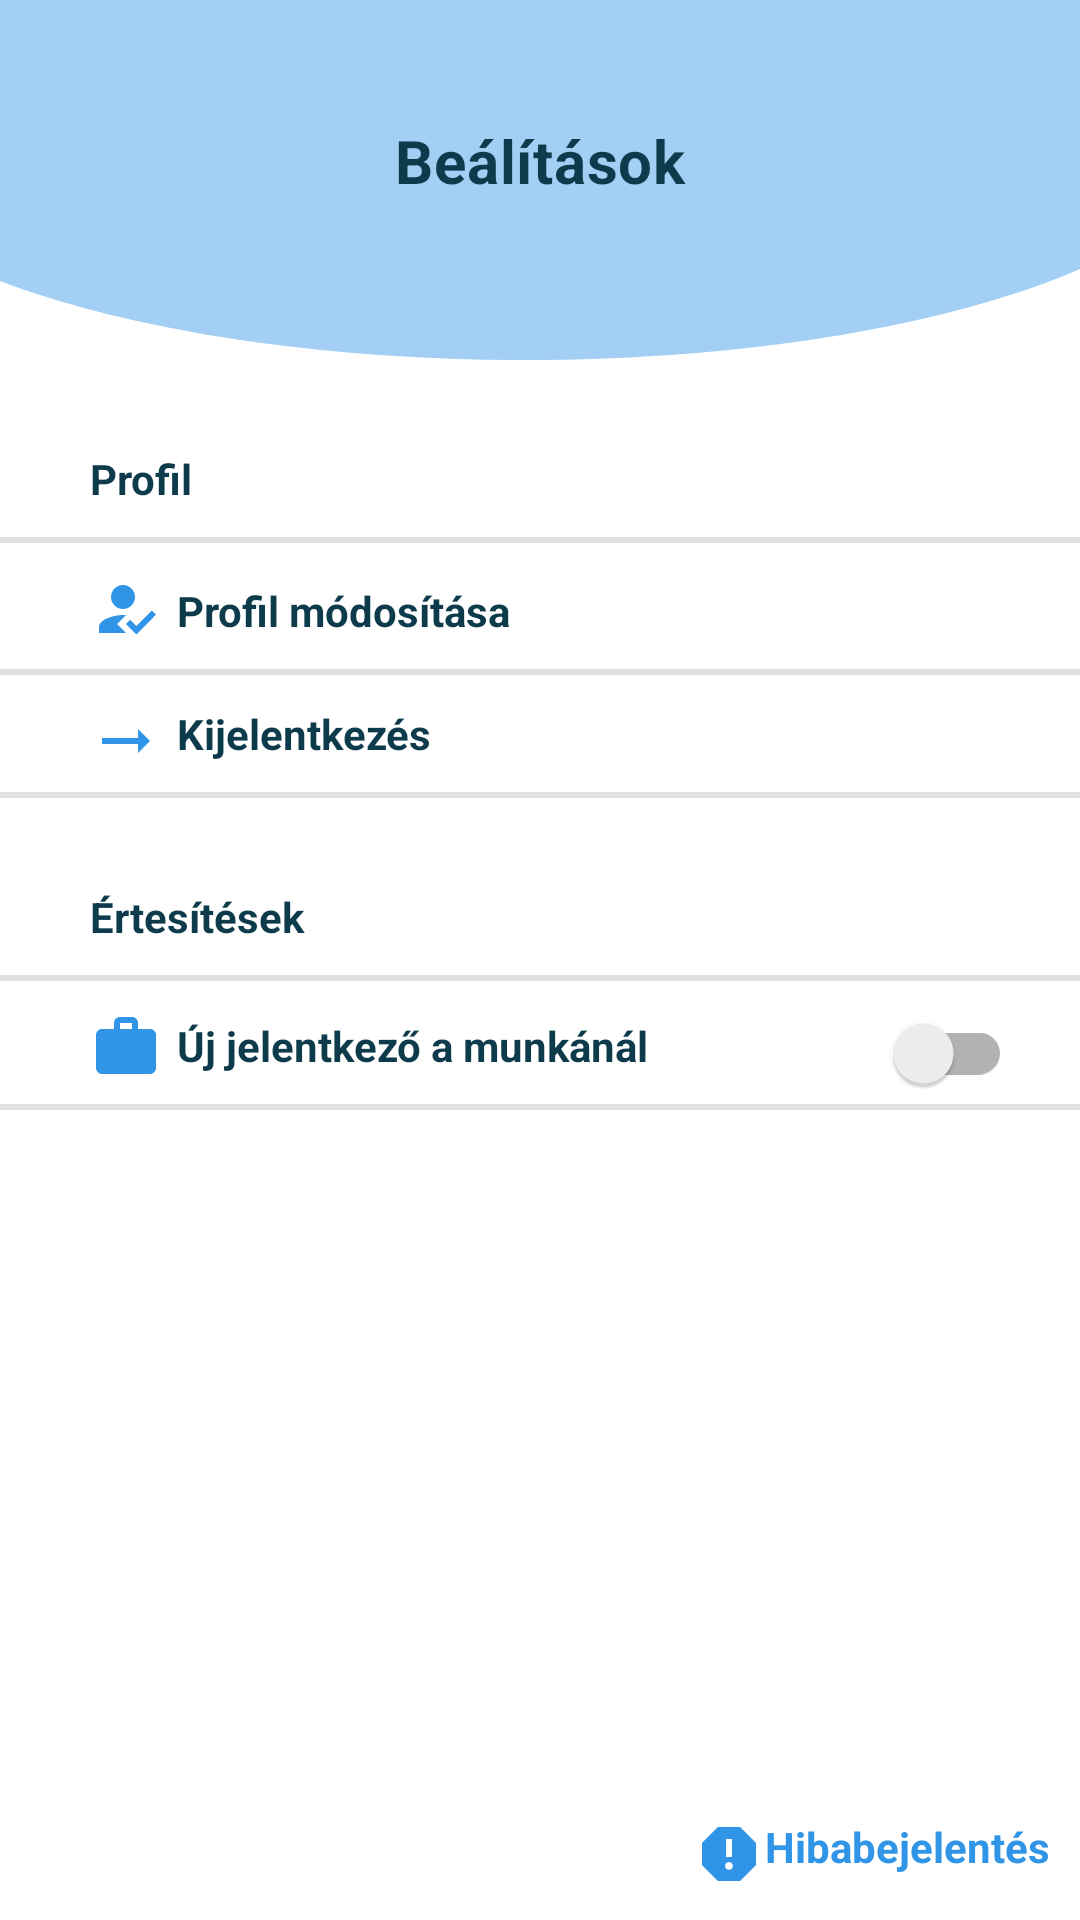

Where icons sit on this 1080 x 1920 app screen, as bbox=[x1, y1, x2, y2]:
arrow right: bbox=[102, 729, 150, 753]
how to reg: bbox=[99, 585, 156, 635]
work: bbox=[96, 1017, 156, 1074]
